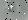person: (6, 3, 12, 13)
